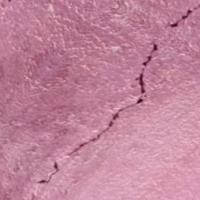crack: (28, 6, 199, 188)
